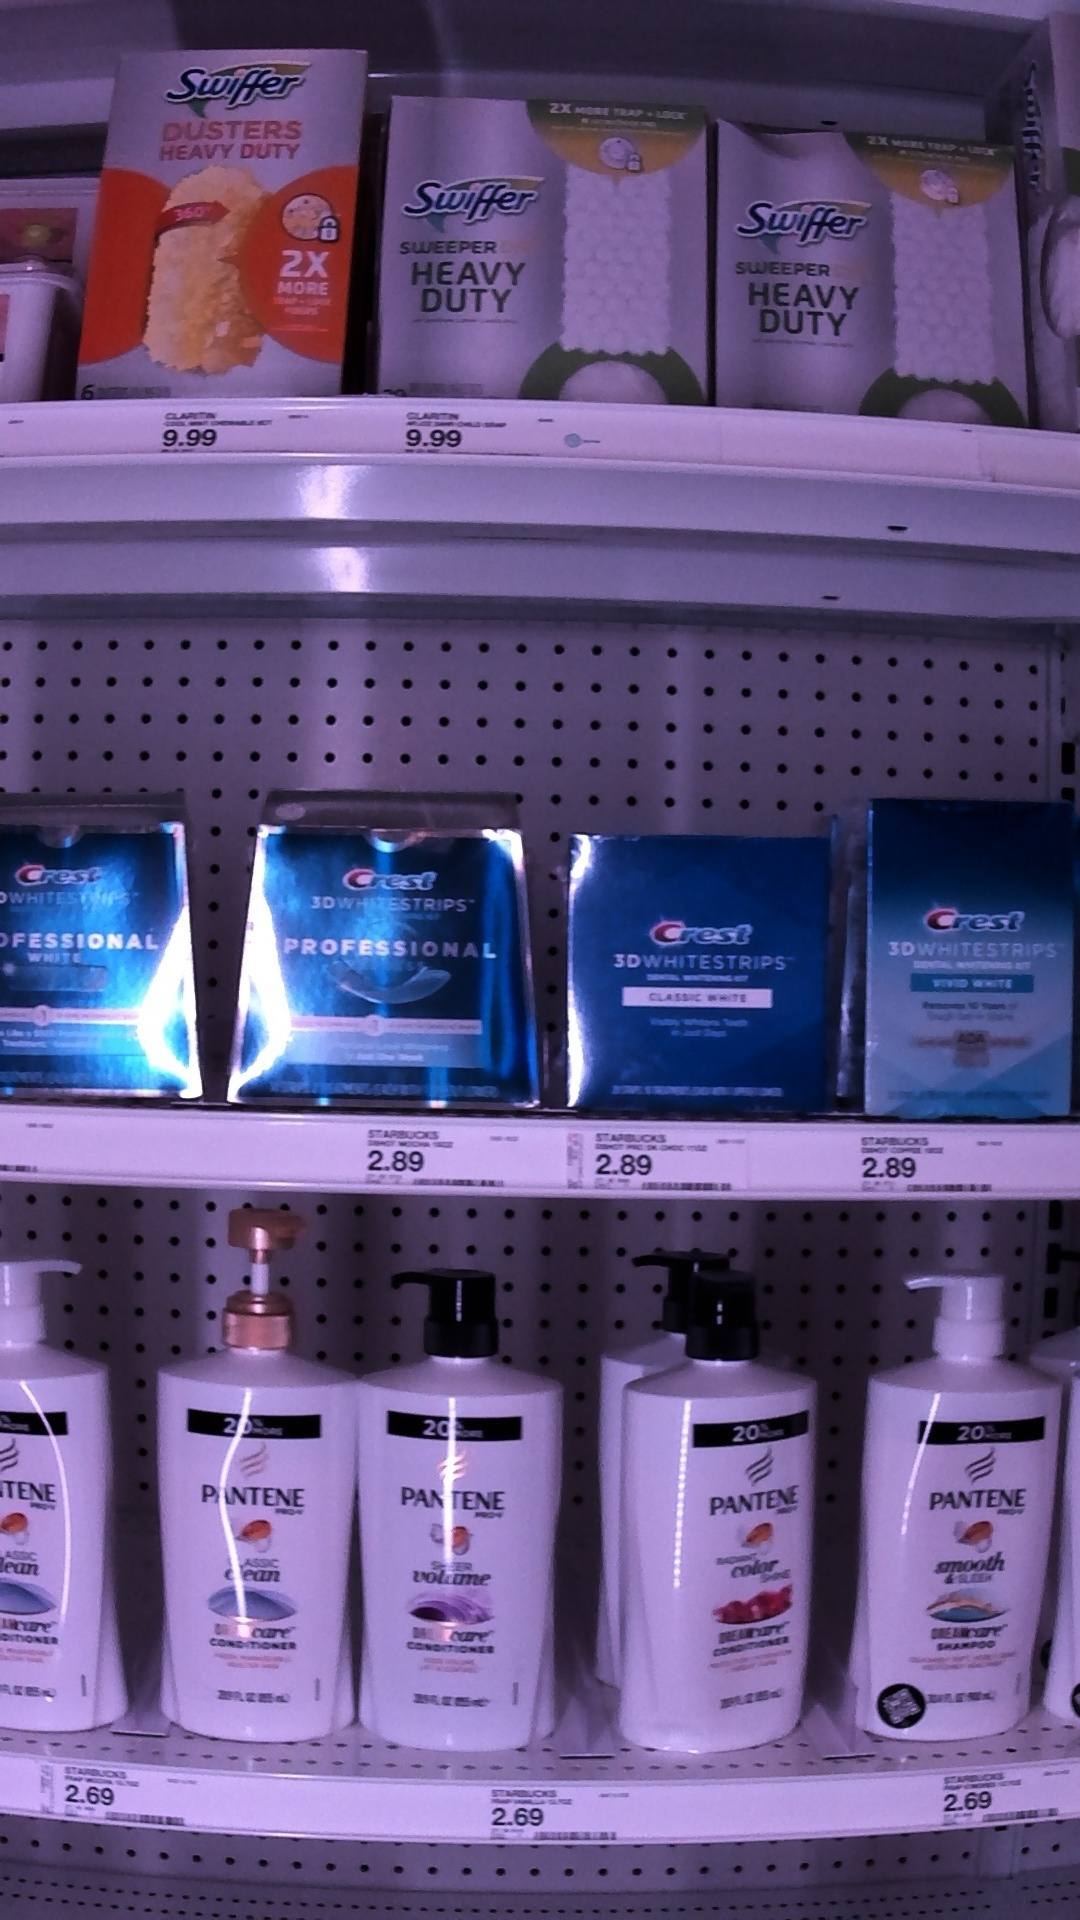ptag: (355, 1112, 509, 1207), (398, 393, 584, 469), (833, 1129, 1013, 1203), (578, 1120, 738, 1200), (51, 1753, 195, 1833), (158, 393, 305, 469), (483, 1780, 632, 1853), (935, 1768, 1062, 1833)
